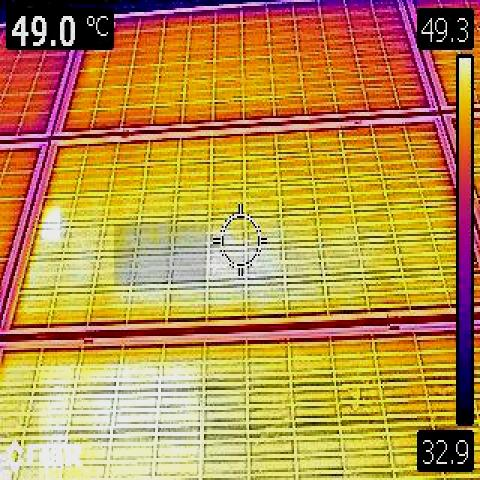fault: (39, 366, 202, 480), (114, 224, 206, 284), (42, 206, 60, 238)
